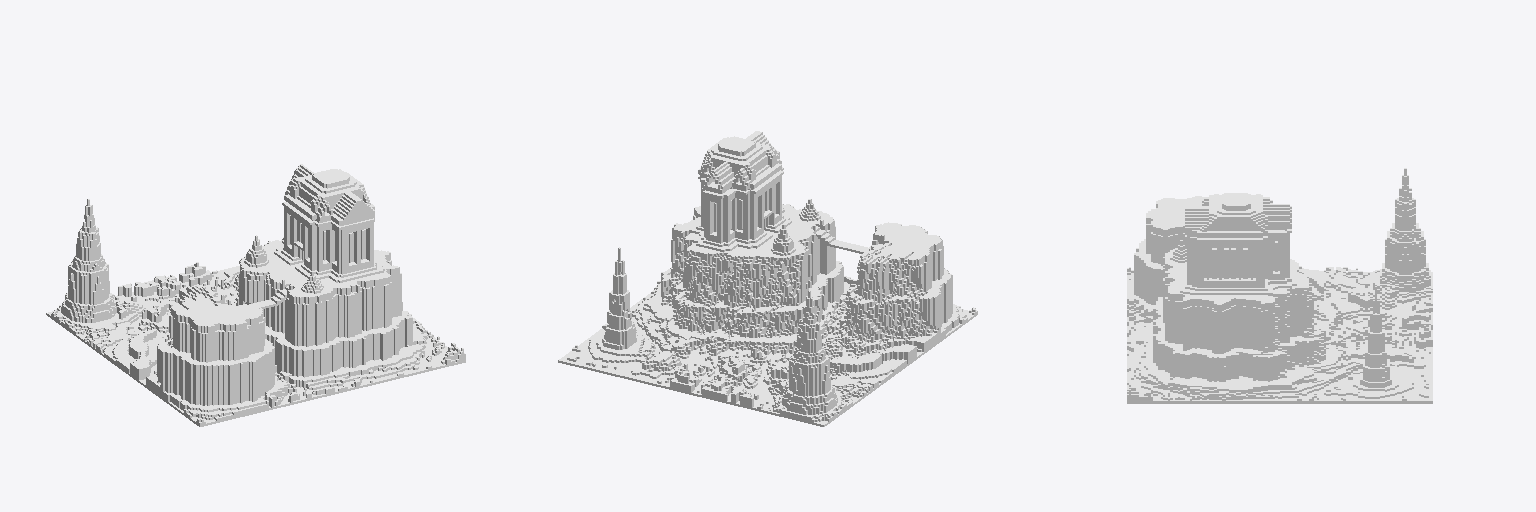
File: volcano-fortress.obj
3 renders of one model, left to right at view 1: azimuth 30°, elevation 25°; view 2: azimuth 150°, elevation 25°; view 3: azimuth 270°, elevation 25°, orthographic.
Parts seen in each view (by area): view 1: volcano-fortress; view 2: volcano-fortress; view 3: volcano-fortress.
Part boxes in pixels (bbox=[...]): volcano-fortress: bbox=[46, 164, 465, 426]; volcano-fortress: bbox=[558, 131, 977, 426]; volcano-fortress: bbox=[1127, 168, 1432, 403].
Size of the model in its own units: 126 by 75 by 126.